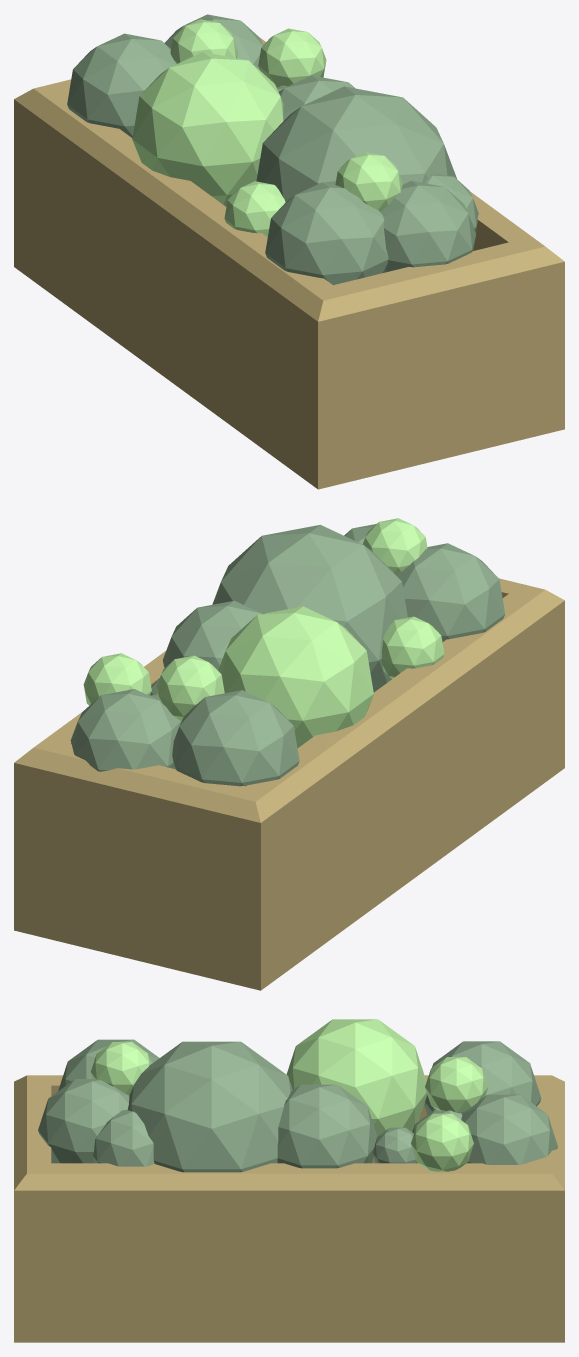
Rendered from SM_FlowerPot.fbx.
The picture shows the model from 3 angles, top to bottom: view 1: azimuth 30°, elevation 25°; view 2: azimuth 150°, elevation 25°; view 3: azimuth 270°, elevation 25°; orthographic projection. The views are drawn at different scales.
Parts seen in each view (by area): view 1: Icosphere.011; view 2: Icosphere.011; view 3: Icosphere.011.
Boxes of the visible parts, x1,y1,x2,y2 form: Icosphere.011: (14,14,564,489); Icosphere.011: (14,518,564,990); Icosphere.011: (14,1019,564,1342).
Size of the model in its own units: 200517 by 216561 by 427971.
